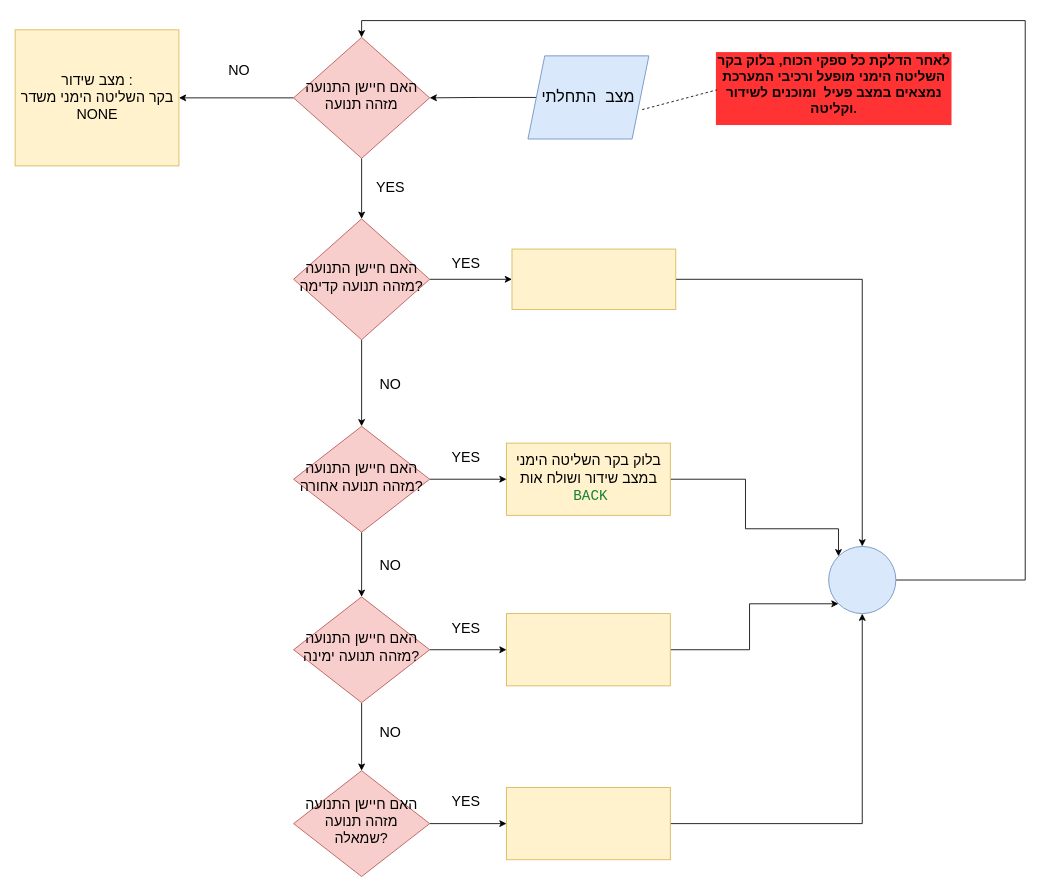
The diagram is 1047 pixels wide and 891 high, and some of its shapes have lost their labels. Here are the shapes that lost their labels. From the top down, the centre of each, then its label:
(x=593, y=279): בלוק בקר השליטה הימני במצב שידור ושולח אות FRONT
(x=862, y=580): סיום תהליך תנועה
(x=588, y=649): בלוק בקר השליטה הימני במצב שידור ושולח אות RIGHT
(x=588, y=823): בלוק בקר השליטה הימני במצב שידור ושולח אות LEFT
